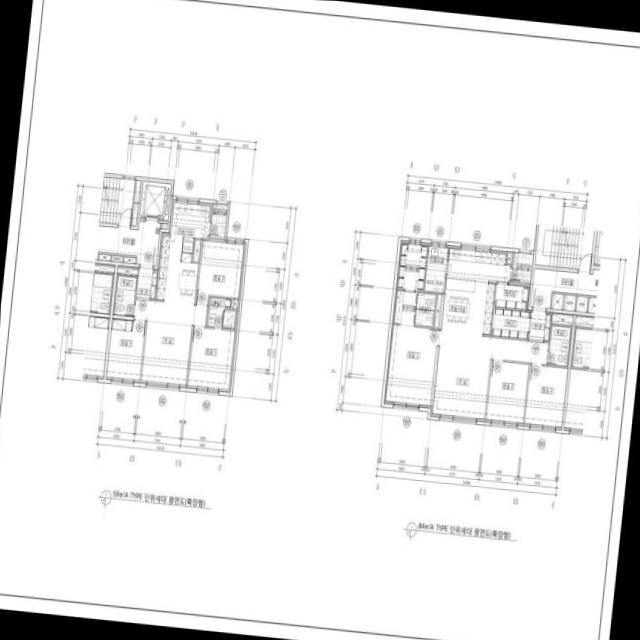background: (0, 0, 640, 640)
space_bedroom: (383, 324, 439, 407), (195, 238, 245, 304), (186, 326, 235, 391), (523, 364, 567, 429), (485, 360, 528, 425), (105, 317, 145, 382)
space_dressroom: (395, 239, 427, 290), (391, 290, 416, 326)
space_elevator: (139, 180, 171, 219), (593, 230, 603, 265)
space_elevator_hall: (94, 217, 159, 265), (530, 267, 599, 308)
space_front: (528, 310, 551, 341), (136, 267, 157, 298)
space_kitchen: (440, 245, 511, 334), (155, 199, 211, 304)
space_living_room: (429, 329, 547, 421), (133, 299, 206, 387)
space_multipurpose_space: (423, 243, 447, 292)
space_other: (491, 308, 529, 338), (493, 282, 529, 309), (131, 180, 140, 225), (433, 294, 441, 327), (551, 312, 572, 324), (575, 295, 587, 311), (551, 293, 563, 309), (563, 294, 575, 310), (116, 265, 137, 274), (192, 239, 200, 261), (587, 296, 596, 312), (506, 251, 513, 263), (98, 253, 110, 260), (123, 256, 135, 263), (111, 254, 122, 261), (231, 299, 239, 308), (160, 223, 166, 228)
space_outdoor_room: (511, 251, 532, 282), (209, 203, 227, 237)
space_staircase: (534, 224, 594, 270), (98, 176, 134, 225)
space_toilet: (112, 274, 136, 316), (547, 324, 570, 366), (206, 296, 235, 328), (414, 308, 433, 326), (415, 292, 435, 309)
